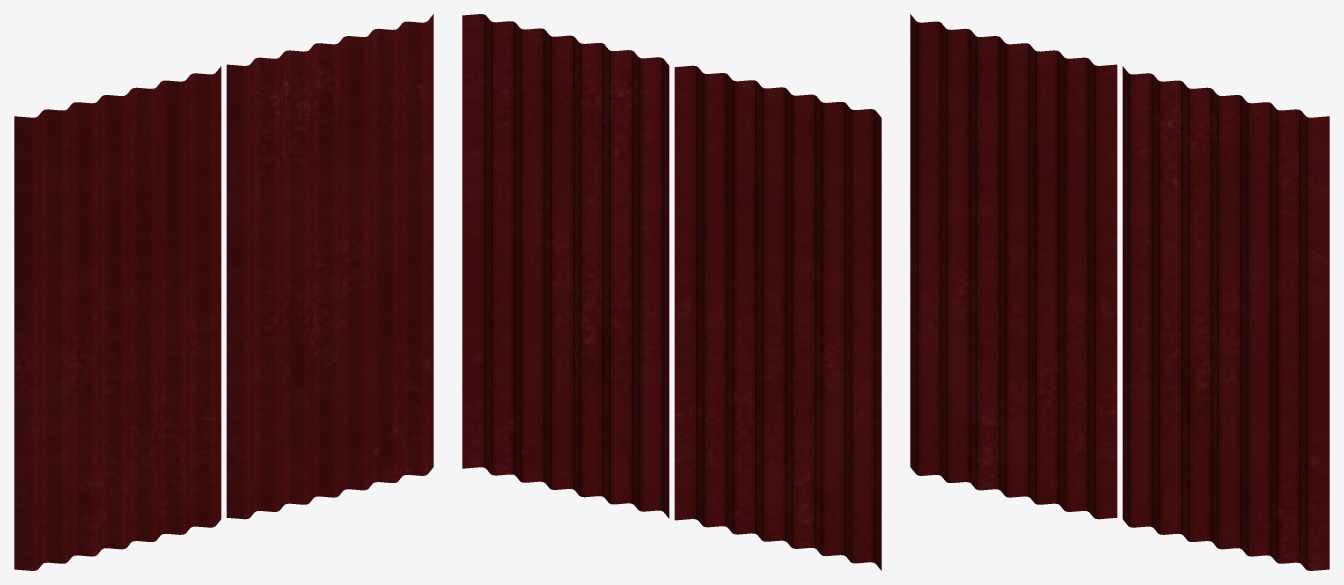
The model's file is curtains-animated-512.fbx.
The picture shows the model from 3 angles, left to right: view 1: azimuth 30°, elevation 25°; view 2: azimuth 150°, elevation 25°; view 3: azimuth 330°, elevation 25°; orthographic projection.
Visible parts, largest first — view 1: vip-curtains; view 2: vip-curtains; view 3: vip-curtains.
Boxes of the visible parts, left/top/right/bottom form: vip-curtains: left=14, top=14, right=433, bottom=570; vip-curtains: left=462, top=14, right=881, bottom=570; vip-curtains: left=910, top=14, right=1329, bottom=570.
Size of the model in its own units: 8.52 by 8.8 by 0.2312.
Materials: 1 (1 with a texture image).
